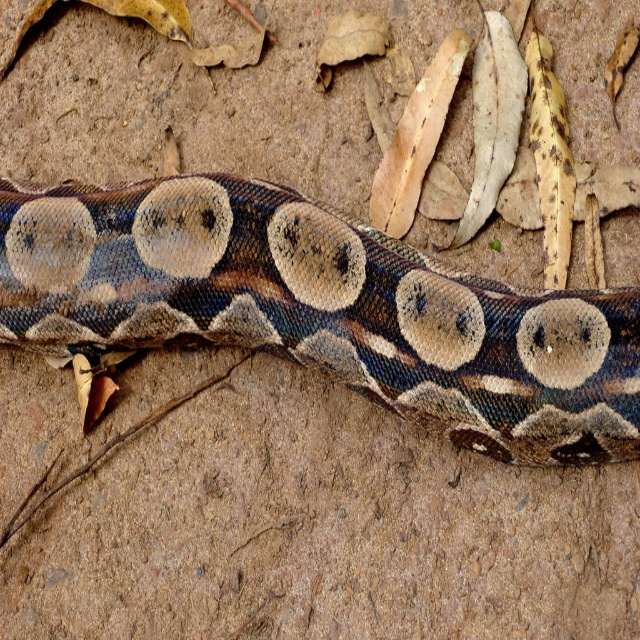Snake: (0, 171, 640, 469)
